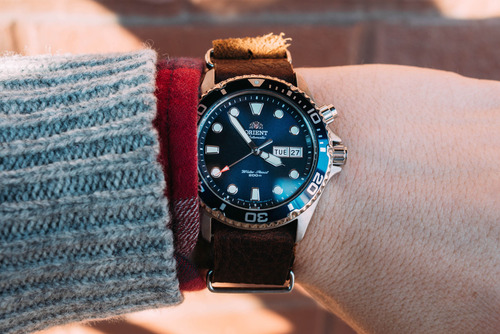clock: (189, 75, 336, 230)
